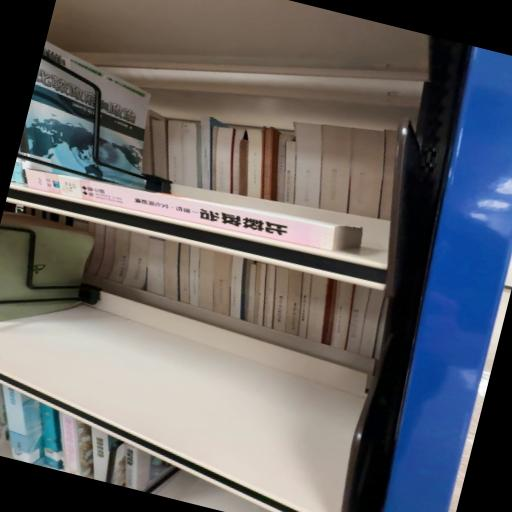flat: (26, 170, 363, 252)
